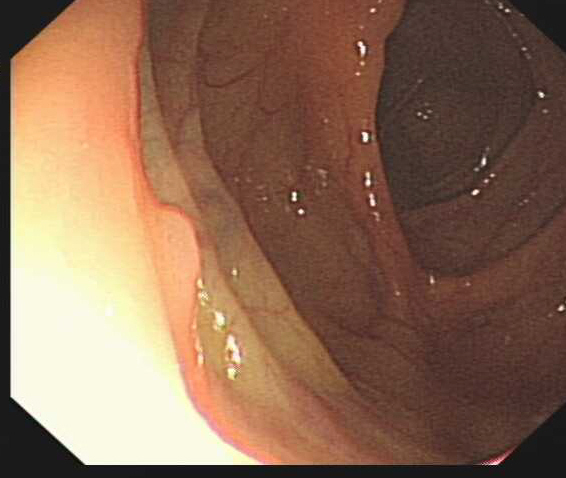adenoma: (150, 201, 202, 321)
